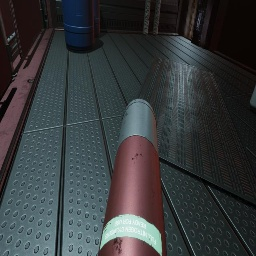NitrogenTank ,: (98, 98, 167, 256)
